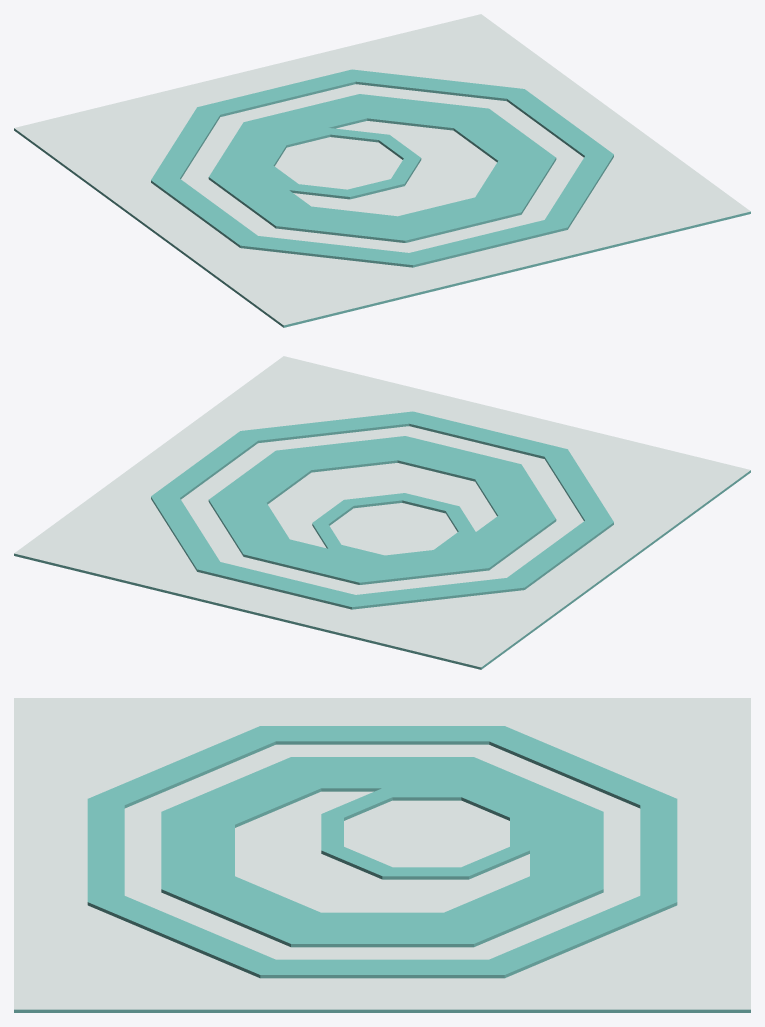
The model's file is Prop_Rug_Eclipse.glb.
3 views of the same model, one above another, from view 1: azimuth 30°, elevation 25°; view 2: azimuth 150°, elevation 25°; view 3: azimuth 270°, elevation 25° (orthographic). The views are drawn at different scales.
Parts seen in each view (by area): view 1: Prop_Rug_Eclipse; view 2: Prop_Rug_Eclipse; view 3: Prop_Rug_Eclipse.
Boxes of the visible parts, x1,y1,x2,y2 form: Prop_Rug_Eclipse: [14, 14, 750, 327]; Prop_Rug_Eclipse: [14, 356, 750, 669]; Prop_Rug_Eclipse: [14, 698, 750, 1012].
Size of the model in its own units: 1 by 0.01 by 1.
